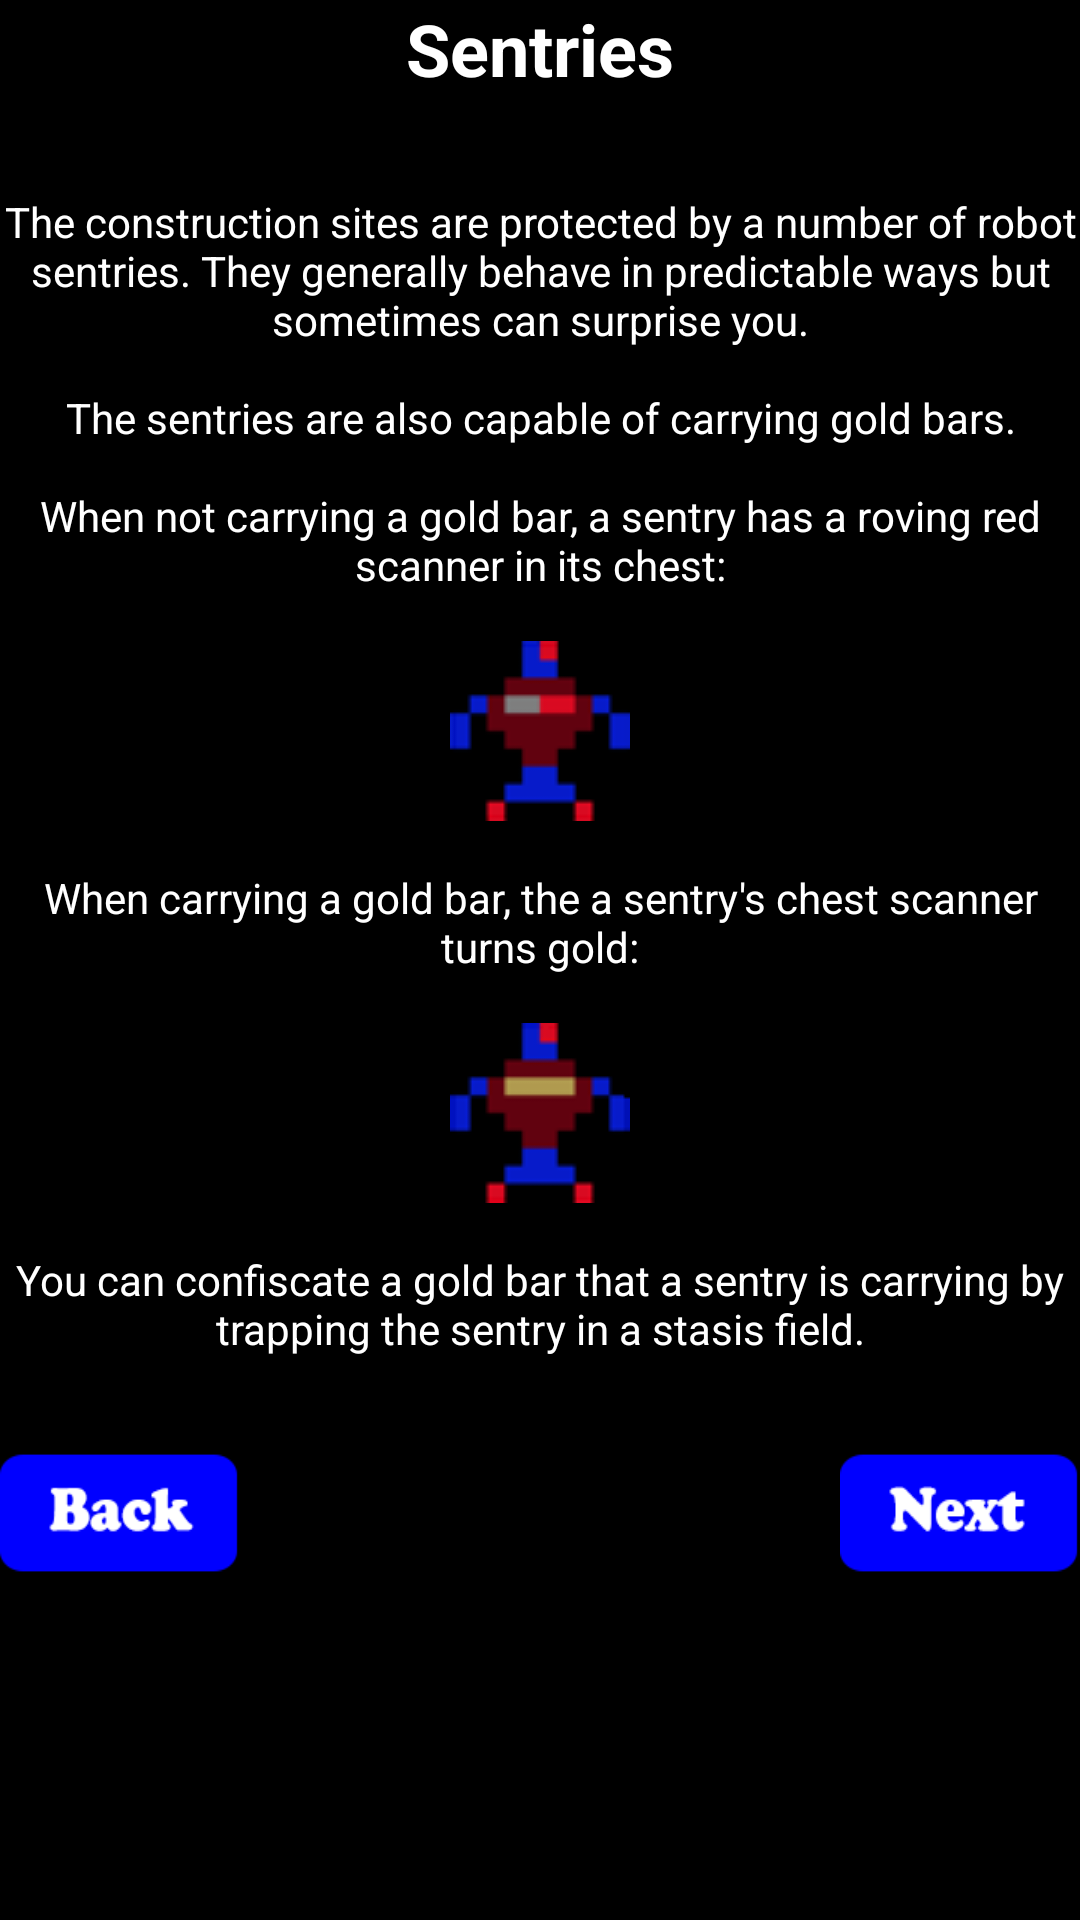

Point at icon controls on the screen. Image size 1080x1920, points as [x,y].
guard: [540,731]
guard with gold: [540,1113]
